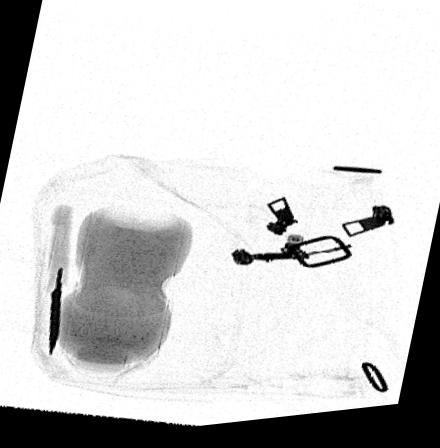Knife: (44, 206, 72, 357)
